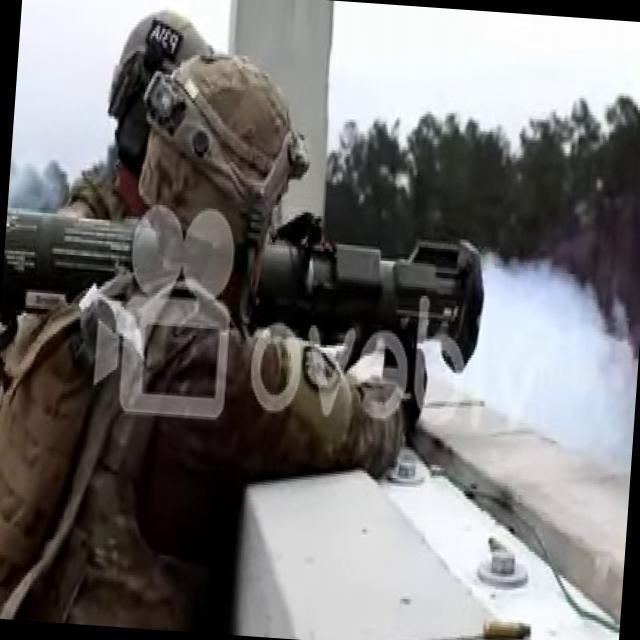rocket: (0, 211, 482, 382)
